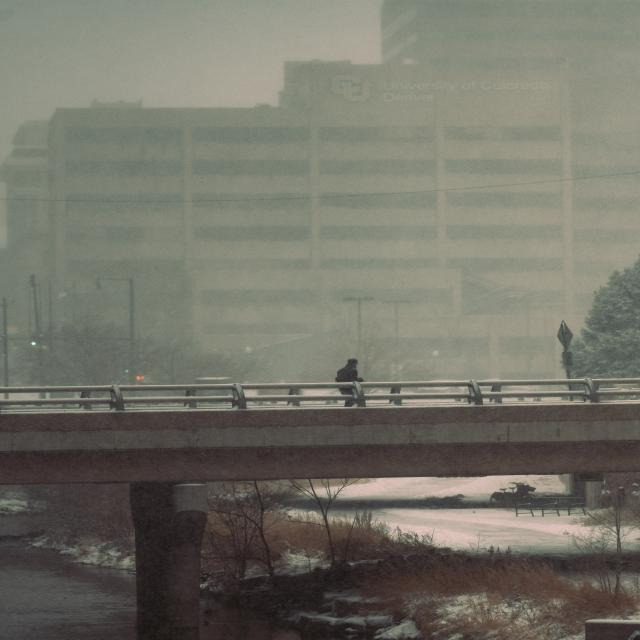Street Light: (93, 275, 137, 385)
